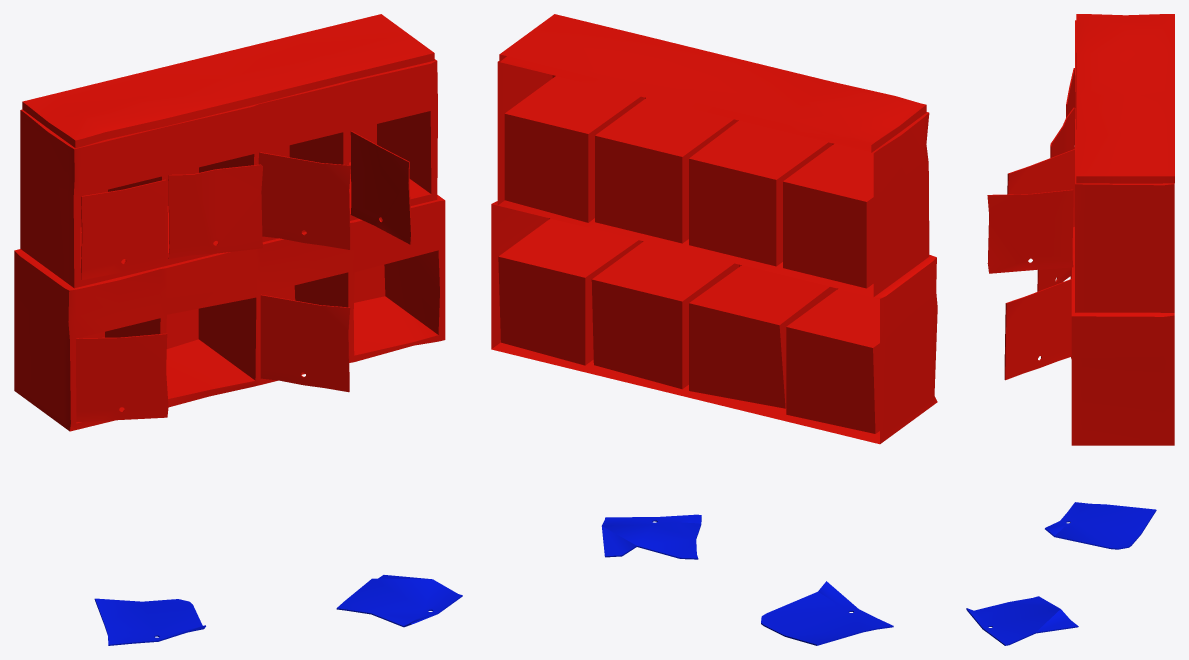
File: почтовый ящик_final.fbx
3 views of the same model, side by side, from view 1: azimuth 30°, elevation 25°; view 2: azimuth 150°, elevation 25°; view 3: azimuth 270°, elevation 25° (orthographic). The views are drawn at different scales.
Visible parts, largest first — view 1: part1, part2; view 2: part1, part2; view 3: part1, part2.
Boxes of the visible parts, x1,y1,x2,y2 form: part1: (14, 14, 445, 431); part2: (94, 575, 462, 645); part1: (491, 14, 937, 444); part2: (601, 514, 893, 645); part1: (987, 14, 1174, 445); part2: (966, 502, 1156, 645).
Bounding box in the file's own units: 261 × 341 × 135.
